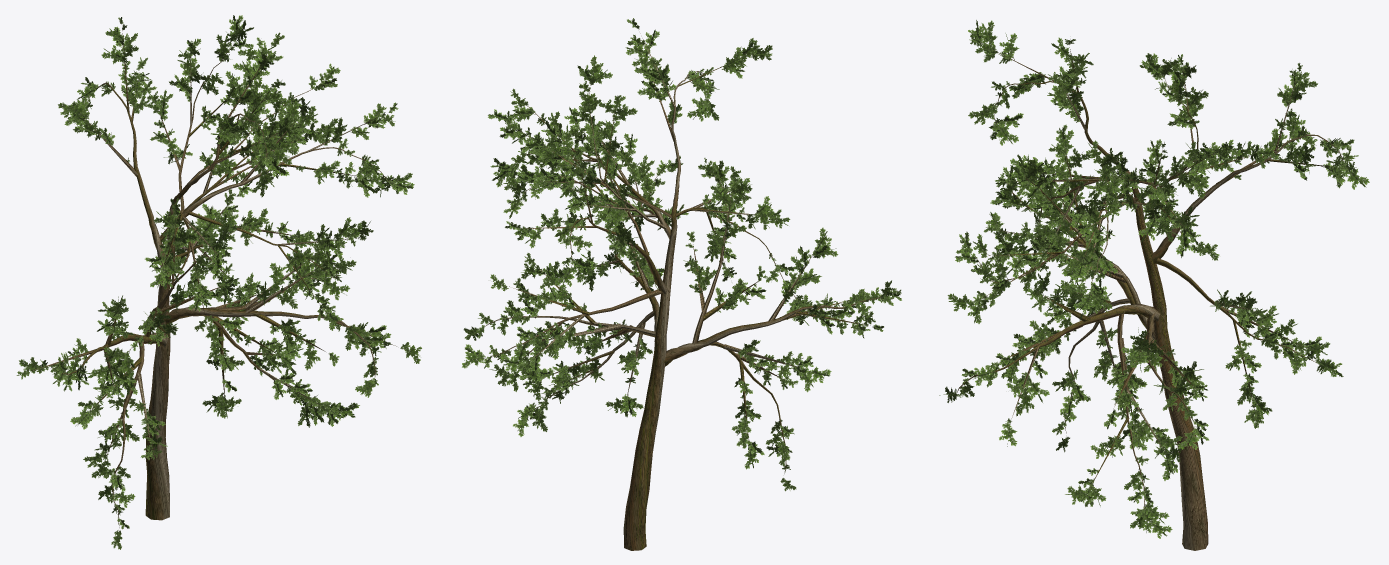
File: bush.glb
3 views of the same model, side by side, from view 1: azimuth 30°, elevation 25°; view 2: azimuth 150°, elevation 25°; view 3: azimuth 270°, elevation 25° (orthographic). The views are drawn at different scales.
Size of the model in its own units: 37.45 by 44.81 by 32.84.
2 materials, 2 textured.
